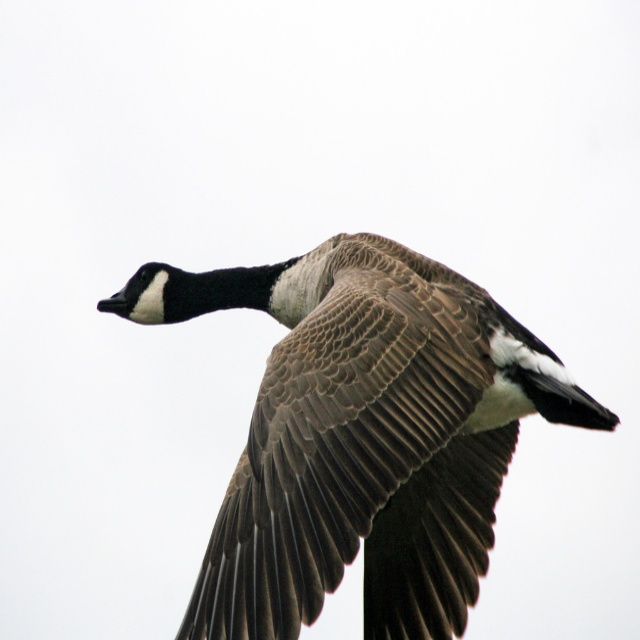Goose: (96, 230, 620, 639)
